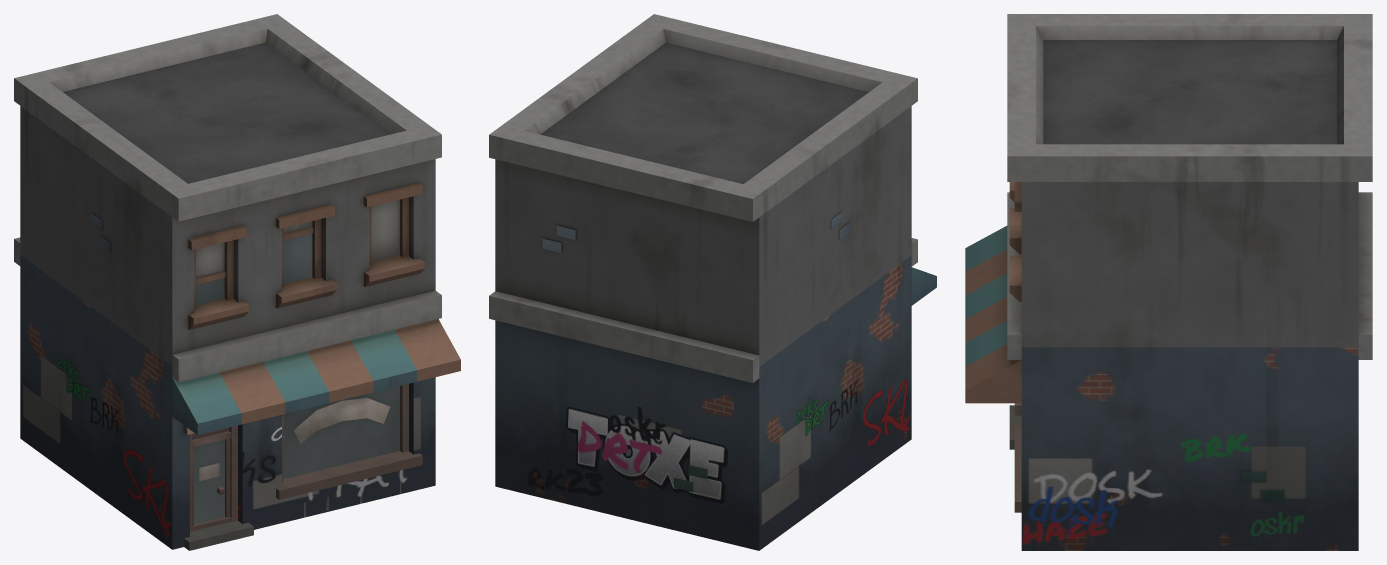
Rendered from building_A.glb.
The picture shows the model from 3 angles, left to right: view 1: azimuth 30°, elevation 25°; view 2: azimuth 150°, elevation 25°; view 3: azimuth 270°, elevation 25°; orthographic projection. The views are drawn at different scales.
Parts seen in each view (by area): view 1: building_A_withoutBase; view 2: building_A_withoutBase; view 3: building_A_withoutBase.
Boxes of the visible parts, <box> form: building_A_withoutBase: <box>14,14,460,550</box>; building_A_withoutBase: <box>489,14,936,550</box>; building_A_withoutBase: <box>965,14,1372,550</box>.
Size of the model in its own units: 1.21 by 1.55 by 1.45.
2 materials, 2 textured.
